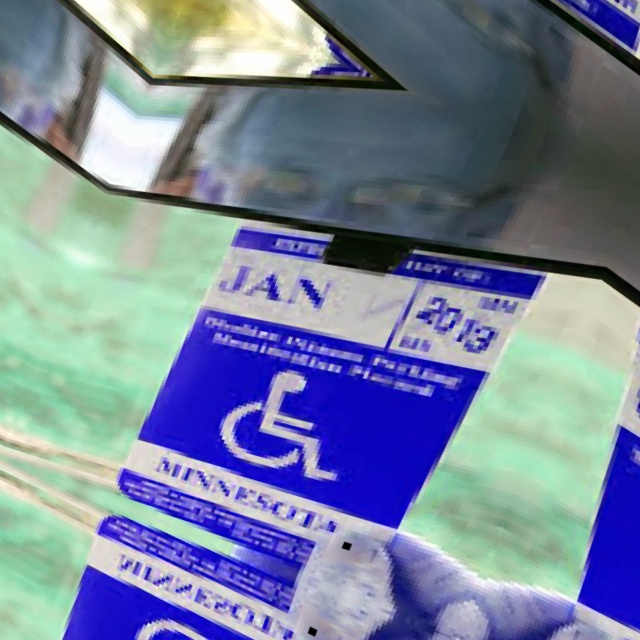ISA: (203, 334, 378, 501), (96, 603, 271, 640)
